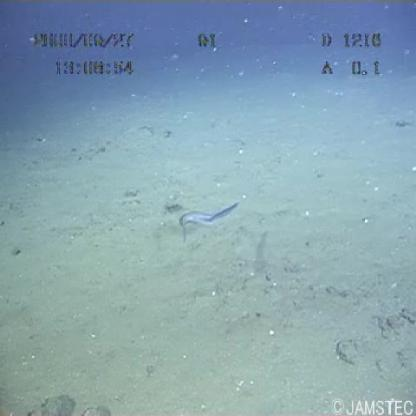Bio: (176, 196, 244, 247)
